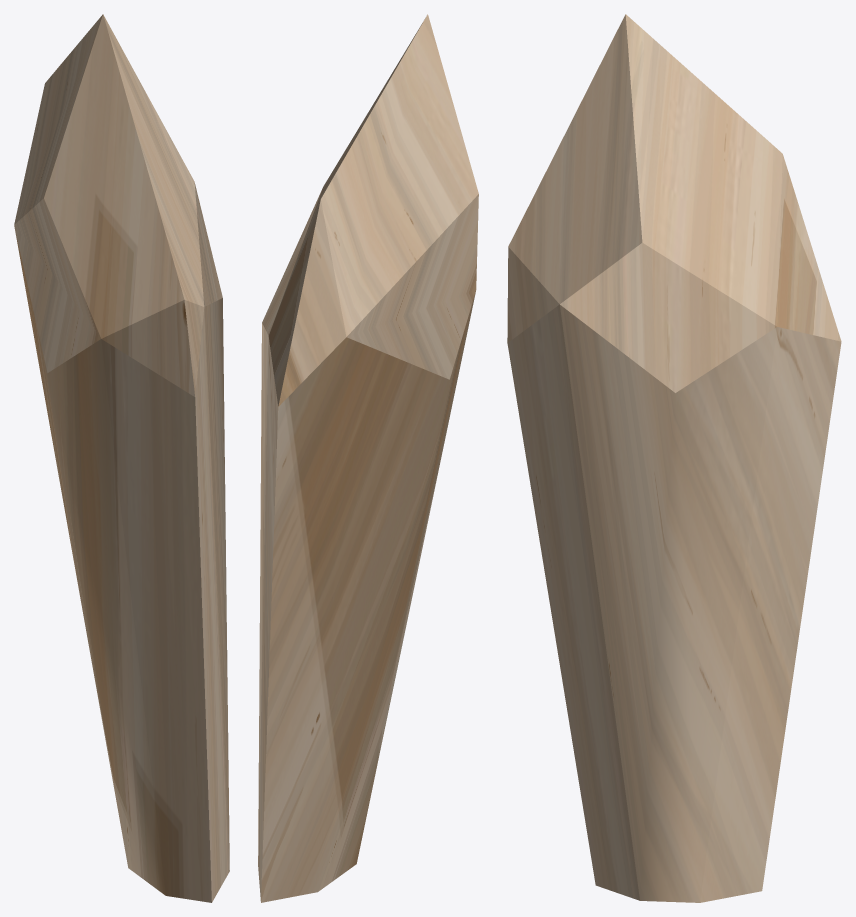
The model's file is Crystal_for_GD6.fbx.
3 renders of one model, left to right at view 1: azimuth 30°, elevation 25°; view 2: azimuth 150°, elevation 25°; view 3: azimuth 270°, elevation 25°, orthographic. The views are drawn at different scales.
Parts seen in each view (by area): view 1: crystal_game; view 2: crystal_game; view 3: crystal_game.
Part boxes in pixels (<box>): crystal_game: <box>14,14,229,902</box>; crystal_game: <box>258,14,478,902</box>; crystal_game: <box>507,14,841,902</box>.
Bounding box in the file's own units: 7.04 × 29.96 × 10.88.
